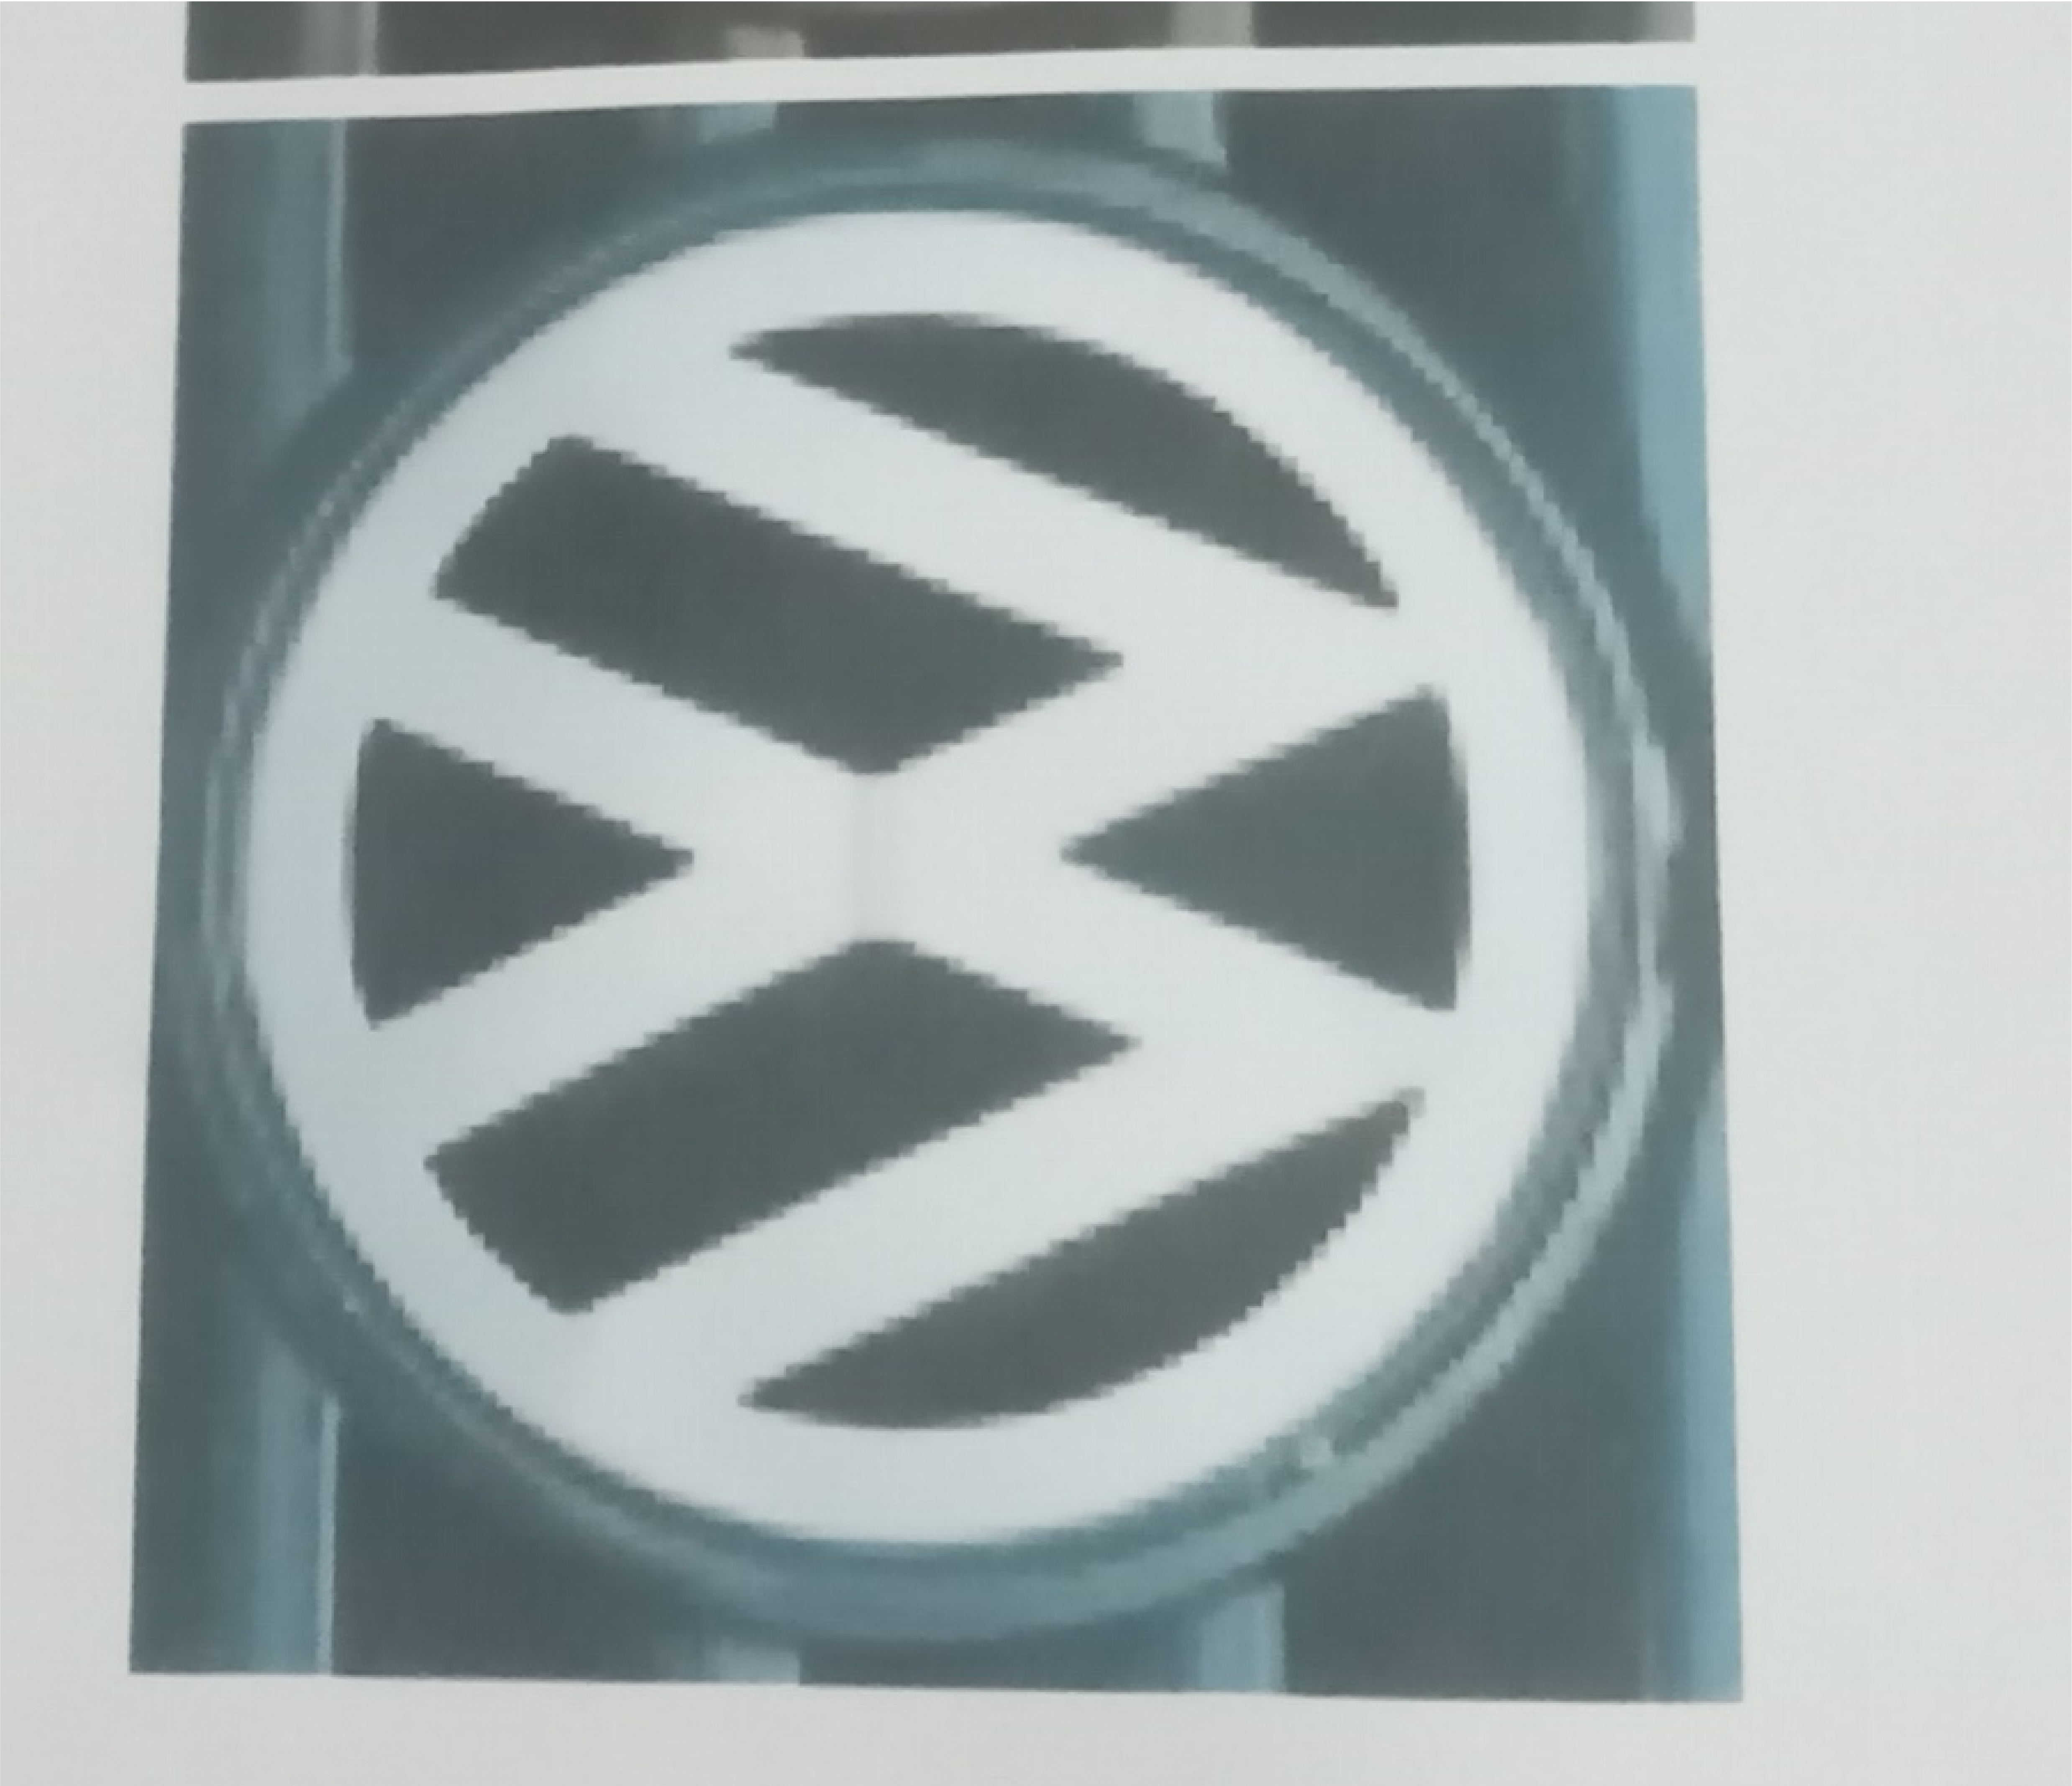Volkswagen: (157, 106, 1765, 1687)
